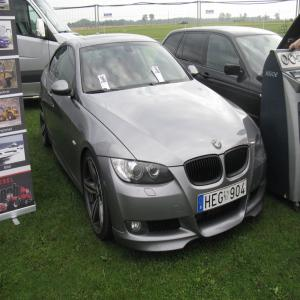Vehicle-registration-plate: (198, 180, 248, 212)
